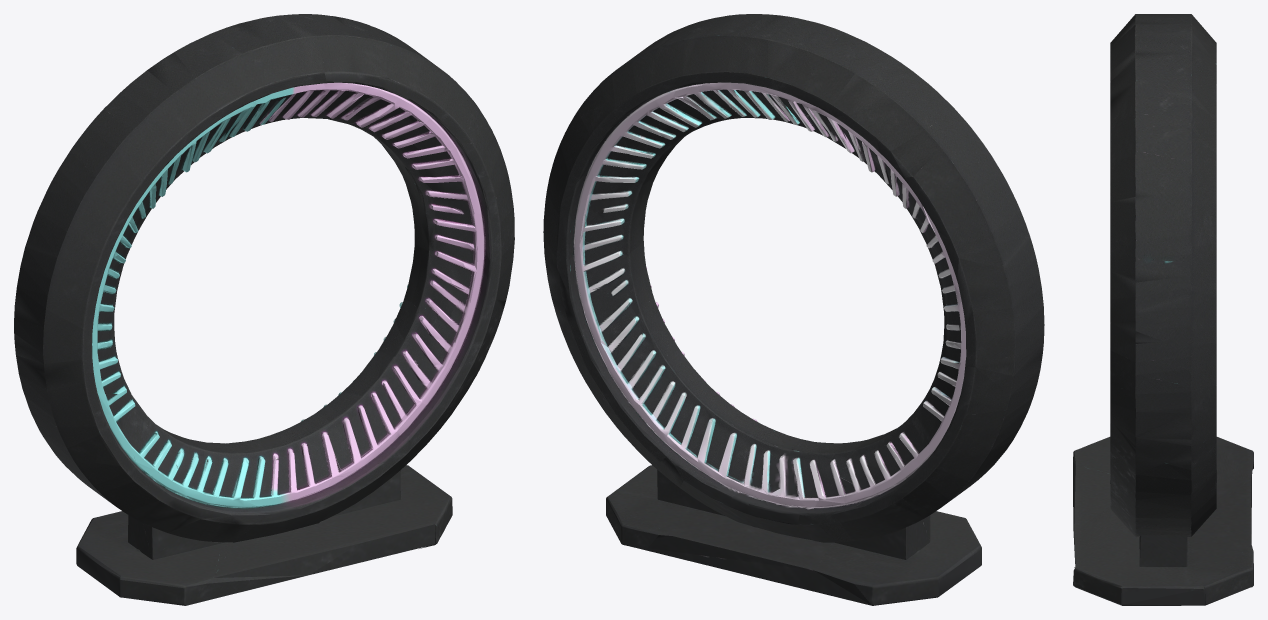
The model's file is ring-gate-raw.glb.
The picture shows the model from 3 angles, left to right: view 1: azimuth 30°, elevation 25°; view 2: azimuth 150°, elevation 25°; view 3: azimuth 270°, elevation 25°; orthographic projection. The views are drawn at different scales.
Parts seen in each view (by area): view 1: Mesh_0; view 2: Mesh_0; view 3: Mesh_0.
Part boxes in pixels (x1,y1,x2,y2): Mesh_0: (14, 14, 514, 605); Mesh_0: (543, 14, 1044, 605); Mesh_0: (1073, 14, 1253, 605).
Bounding box in the file's own units: 1.84 × 1.9 × 0.6365.
1 material, 1 textured.
